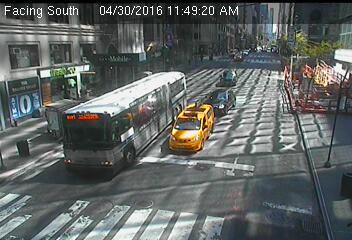neg: (290, 112, 308, 134), (225, 54, 242, 77), (49, 104, 65, 125), (212, 134, 223, 149)
